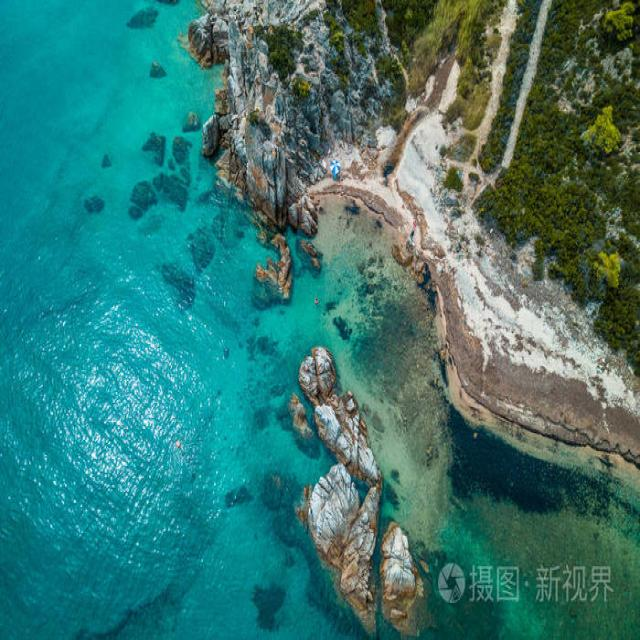reef: (146, 56, 378, 260), (278, 316, 419, 590)
